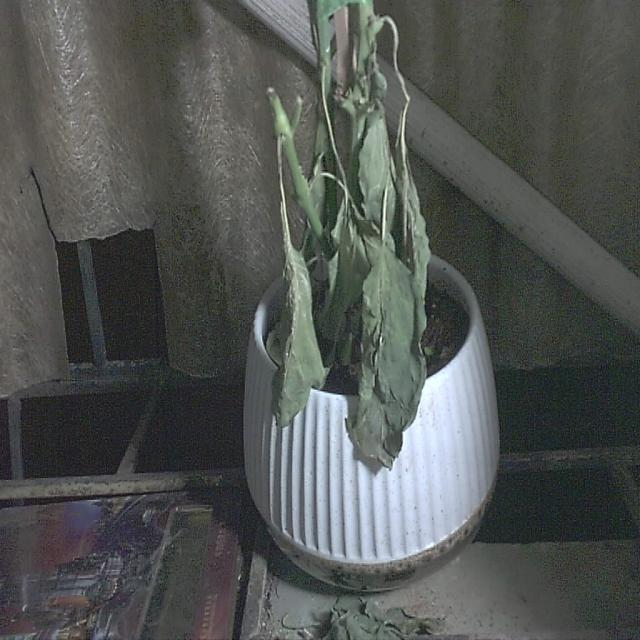Leaf: (348, 252, 425, 469)
